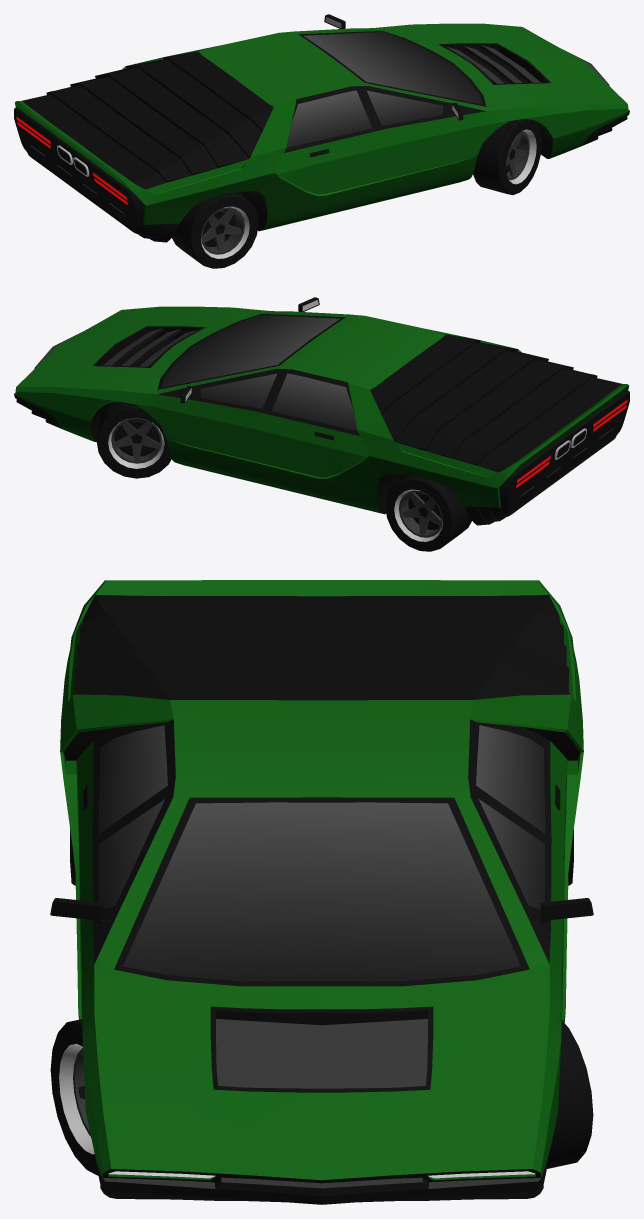
The model's file is Car_208.glb.
The picture shows the model from 3 angles, top to bottom: view 1: azimuth 30°, elevation 25°; view 2: azimuth 150°, elevation 25°; view 3: azimuth 270°, elevation 25°; orthographic projection. The views are drawn at different scales.
Parts seen in each view (by area): view 1: Car_208, wheel_3_Car_208_Wheel_2R, wheel_1_Car_208_Wheel_1R; view 2: Car_208, wheel_2_Car_208_Wheel_2L, wheel_0_Car_208_Wheel_1L; view 3: Car_208, wheel_1_Car_208_Wheel_1R, wheel_0_Car_208_Wheel_1L.
Part boxes in pixels (bbox=[...]): Car_208: bbox=[14, 14, 629, 242]; wheel_3_Car_208_Wheel_2R: bbox=[171, 192, 258, 268]; wheel_1_Car_208_Wheel_1R: bbox=[473, 119, 541, 194]; Car_208: bbox=[14, 297, 629, 525]; wheel_2_Car_208_Wheel_2L: bbox=[385, 475, 472, 551]; wheel_0_Car_208_Wheel_1L: bbox=[96, 402, 171, 478]; Car_208: bbox=[50, 580, 593, 1204]; wheel_1_Car_208_Wheel_1R: bbox=[50, 1019, 98, 1175]; wheel_0_Car_208_Wheel_1L: bbox=[547, 1020, 593, 1168].
Size of the model in its own units: 4.43 by 1.03 by 1.99.
Materials: 2 (2 with a texture image).
